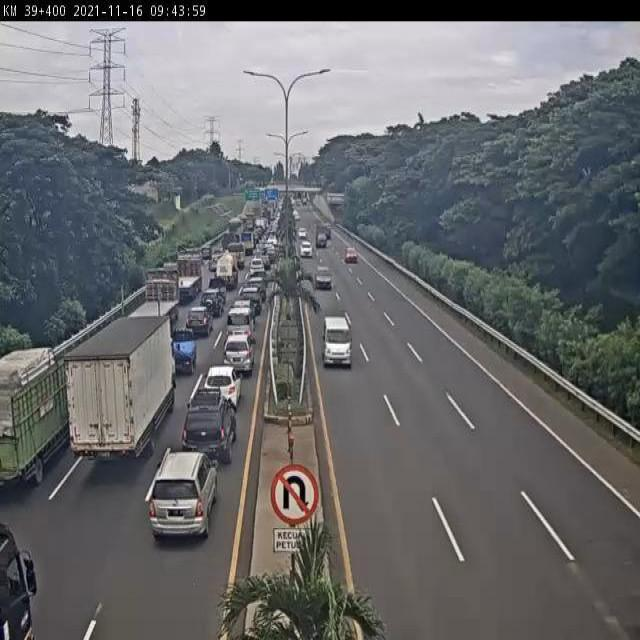car: (146, 448, 220, 549), (179, 391, 235, 466), (322, 319, 357, 372), (201, 365, 242, 408), (167, 328, 200, 377), (221, 333, 256, 375), (226, 307, 255, 341), (185, 305, 213, 336), (236, 287, 263, 313), (200, 289, 227, 315), (245, 276, 267, 301), (313, 265, 332, 288), (248, 257, 266, 276), (299, 239, 314, 260), (344, 247, 359, 265)
truck-l-: (123, 275, 182, 333), (168, 254, 206, 302)
truck-m-: (63, 317, 179, 459), (0, 349, 79, 495), (214, 253, 238, 291), (225, 242, 247, 270)
